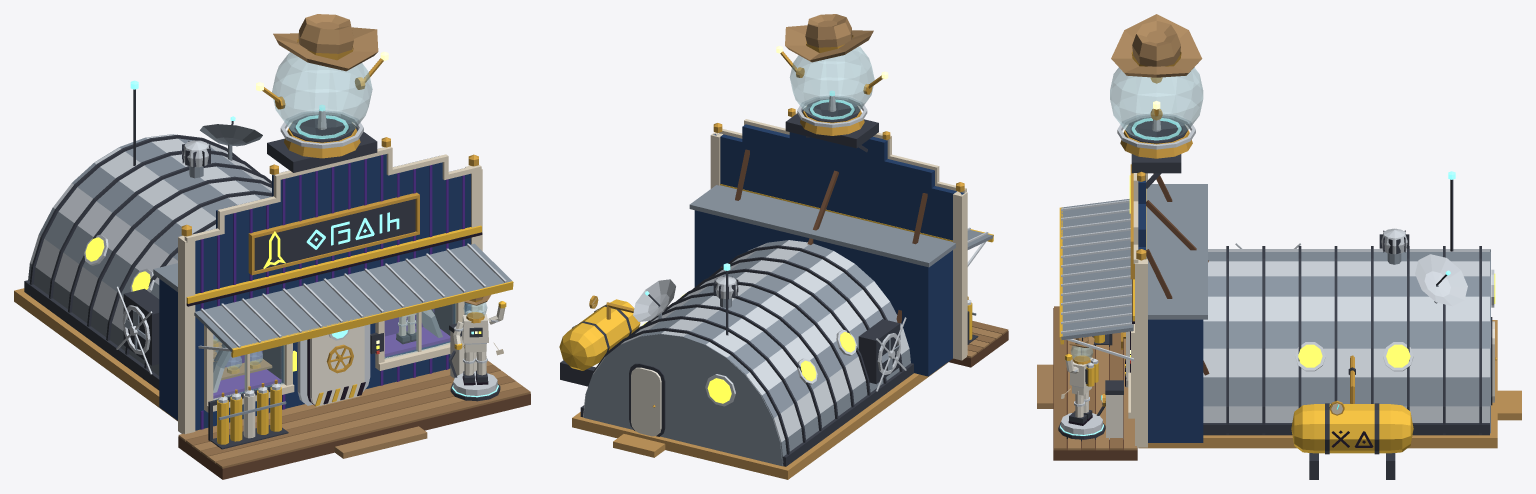
File: Bldg_SuitShop.fbx
3 views of the same model, side by side, from view 1: azimuth 30°, elevation 25°; view 2: azimuth 150°, elevation 25°; view 3: azimuth 270°, elevation 25° (orthographic). The views are drawn at different scales.
Visible parts, largest first — view 1: Bldg_SuitShop_Body, Bldg_SuitShop_Door, Bldg_SuitShop_Turntable; view 2: Bldg_SuitShop_Body; view 3: Bldg_SuitShop_Body, Bldg_SuitShop_Turntable.
Boxes of the visible parts, box(x1,y1,x2,y2) form: Bldg_SuitShop_Body: box(14, 14, 530, 479); Bldg_SuitShop_Door: box(310, 325, 365, 406); Bldg_SuitShop_Turntable: box(450, 295, 506, 401); Bldg_SuitShop_Body: box(559, 14, 1008, 479); Bldg_SuitShop_Body: box(1037, 14, 1521, 479); Bldg_SuitShop_Turntable: box(1058, 336, 1105, 441).
Bounding box in the file's own units: 10 × 10.43 × 12.67.
